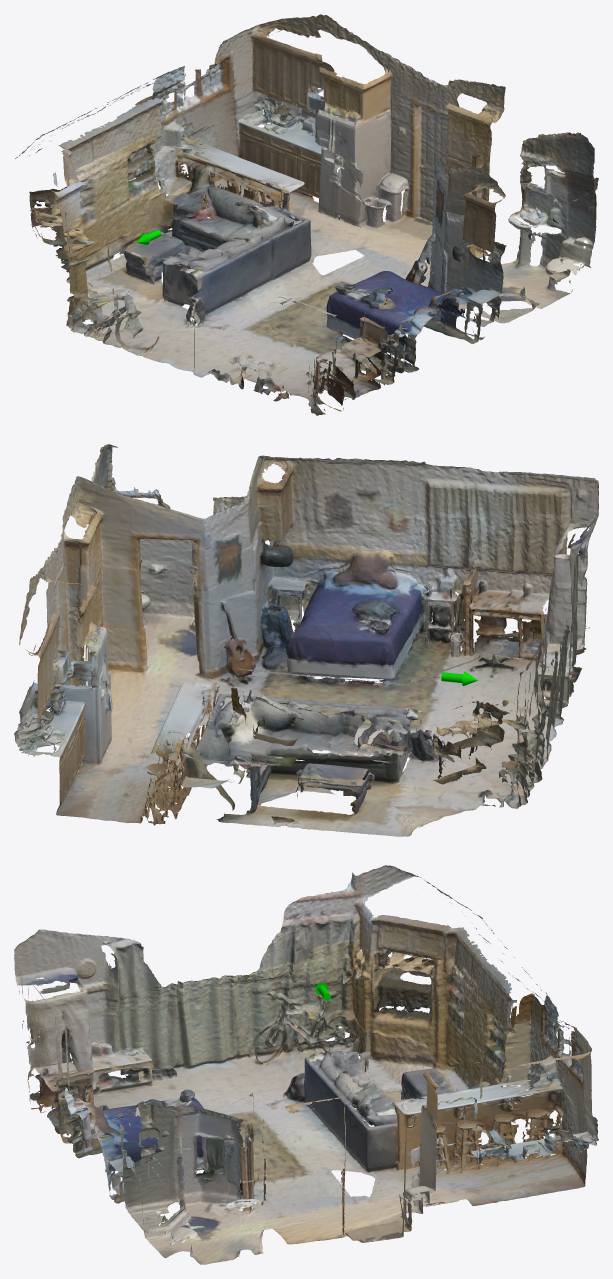
Rendered from situation_4.glb.
3 views of the same model, one above another, from view 1: azimuth 30°, elevation 25°; view 2: azimuth 150°, elevation 25°; view 3: azimuth 270°, elevation 25° (orthographic). The views are drawn at different scales.
Parts seen in each view (by area): view 1: world; view 2: world; view 3: world.
Part boxes in pixels (bbox=[...]): world: bbox=[15, 14, 598, 415]; world: bbox=[14, 444, 598, 836]; world: bbox=[14, 865, 598, 1264].
Bounding box in the file's own units: 8.42 × 3.03 × 8.74.
